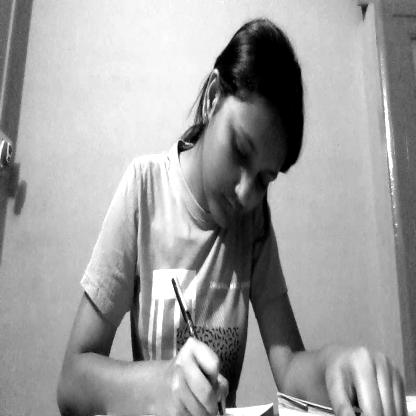Distracted: (206, 62, 294, 236)
